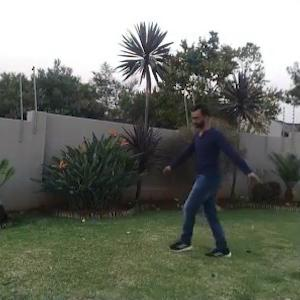land: (156, 96, 263, 271)
